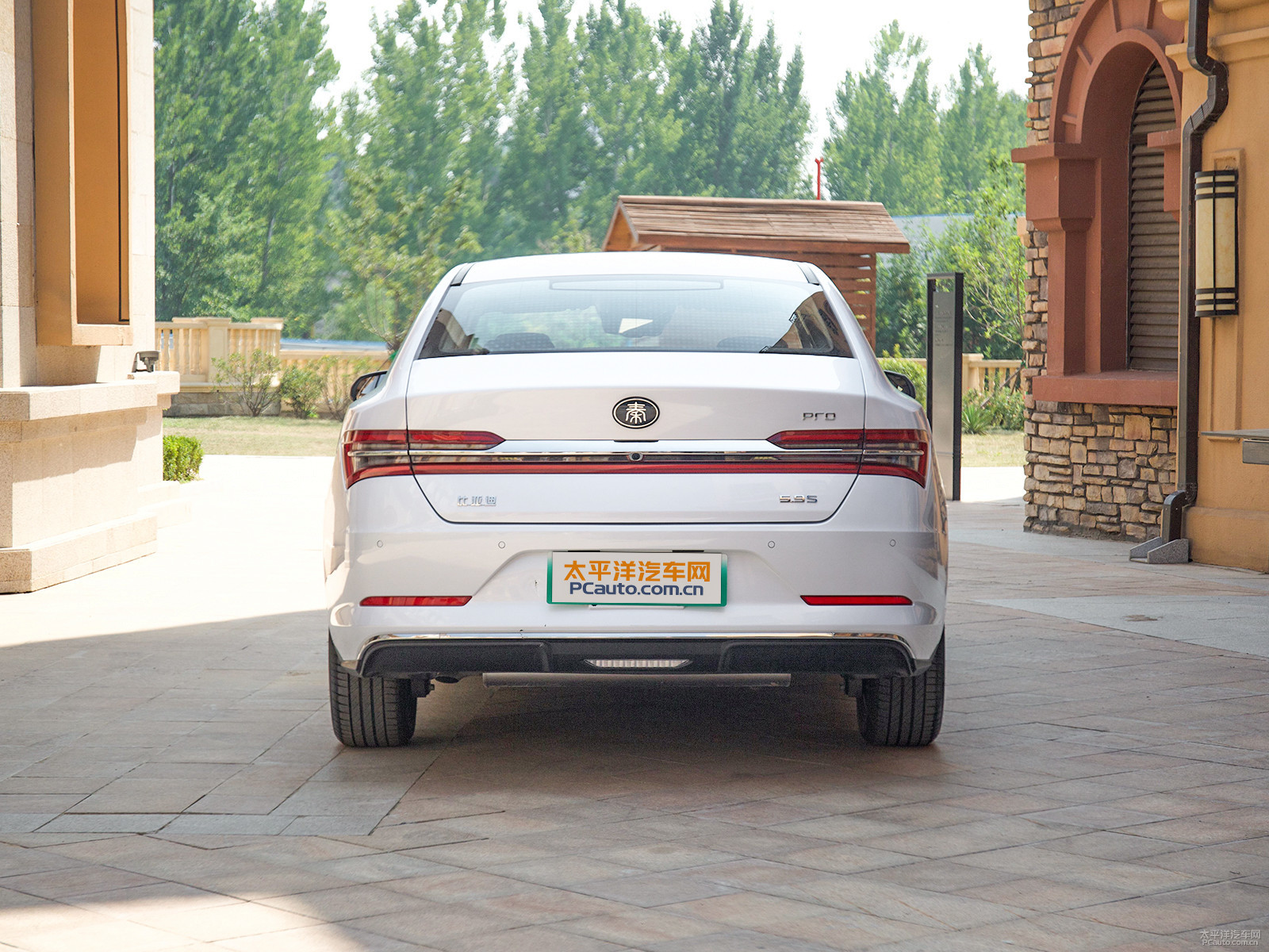BYD Qin: (612, 397, 659, 428)
